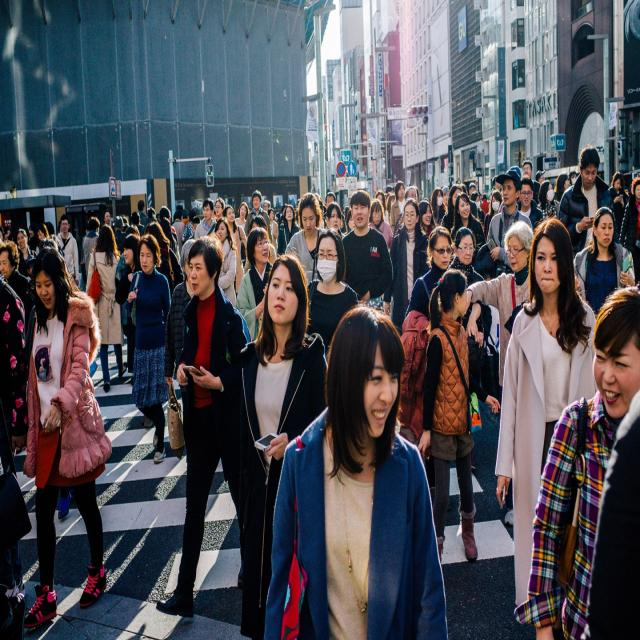body: (264, 302, 452, 640), (218, 248, 334, 640), (493, 216, 599, 613), (526, 287, 640, 638), (156, 234, 252, 615), (20, 242, 113, 631), (415, 266, 501, 571), (580, 388, 640, 640), (402, 225, 454, 476), (464, 219, 534, 396), (124, 232, 172, 464), (303, 226, 361, 371), (162, 238, 198, 462), (573, 206, 635, 321), (0, 406, 31, 630), (86, 222, 126, 392), (340, 188, 394, 312), (557, 145, 615, 256), (389, 197, 430, 337), (485, 168, 534, 280), (234, 226, 274, 342), (284, 191, 330, 289), (115, 232, 141, 374), (102, 199, 202, 234), (143, 222, 185, 302), (0, 238, 33, 338), (221, 204, 248, 299), (449, 190, 487, 255), (618, 175, 640, 283), (446, 225, 486, 284), (214, 217, 237, 309), (0, 238, 26, 313), (56, 214, 80, 286), (244, 188, 272, 244), (365, 198, 394, 250), (392, 184, 418, 239), (608, 171, 628, 238), (81, 215, 101, 280), (277, 204, 300, 259), (440, 183, 464, 234), (482, 188, 503, 243), (17, 228, 38, 281), (194, 196, 218, 242), (537, 179, 561, 221), (390, 180, 408, 236), (551, 172, 571, 220), (324, 201, 346, 242), (522, 159, 541, 205), (418, 199, 437, 242), (0, 222, 44, 239), (470, 188, 491, 222), (266, 208, 280, 258), (430, 186, 446, 228), (233, 201, 250, 232), (374, 184, 395, 209), (314, 191, 328, 227), (264, 198, 286, 220), (341, 206, 354, 234), (214, 196, 226, 222), (36, 222, 50, 242), (458, 182, 476, 196), (492, 172, 502, 192), (441, 184, 450, 206), (534, 168, 544, 184), (293, 198, 299, 222), (568, 169, 577, 185)
